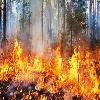fire: (0, 42, 100, 99)
